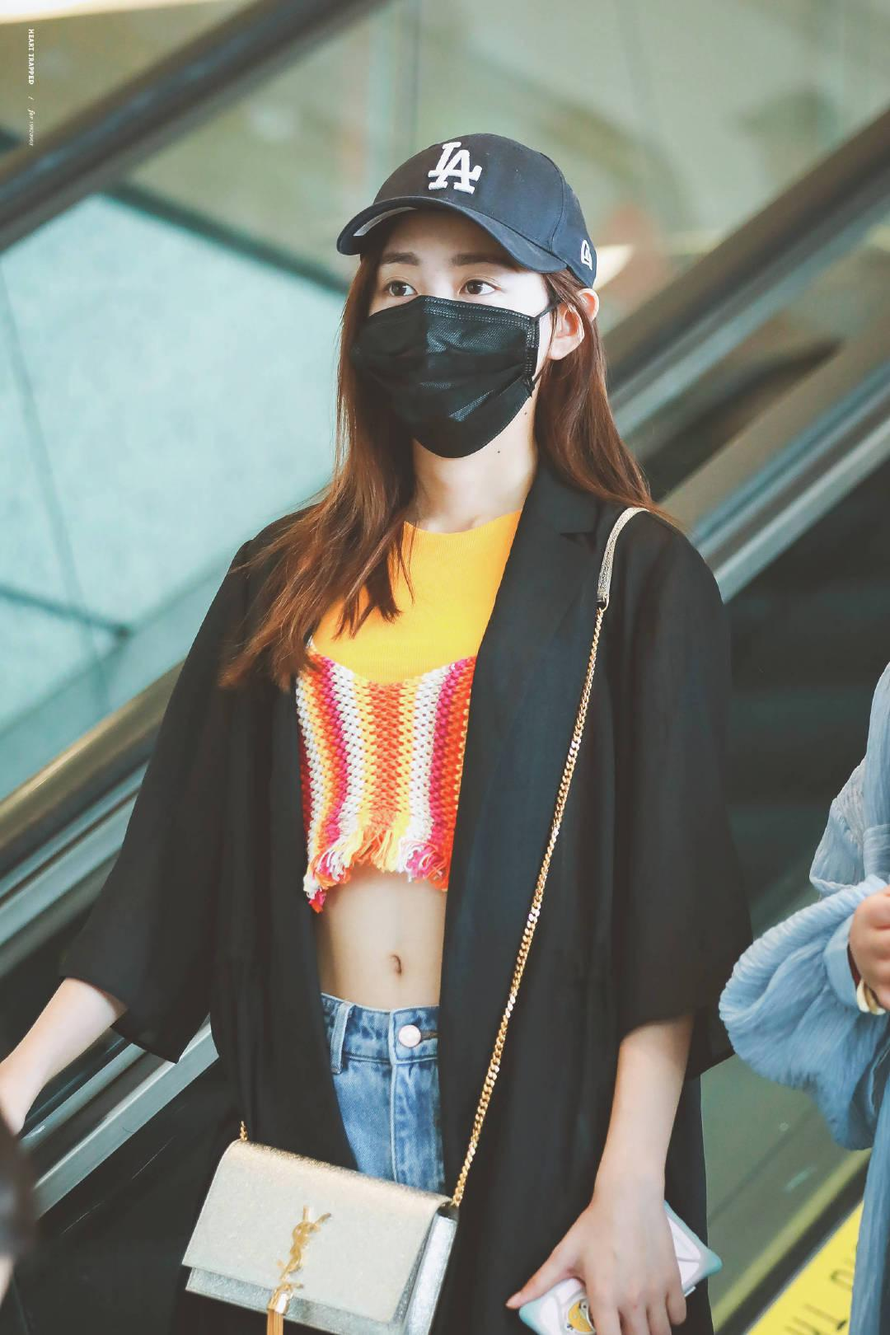OK: (363, 232, 539, 447)
